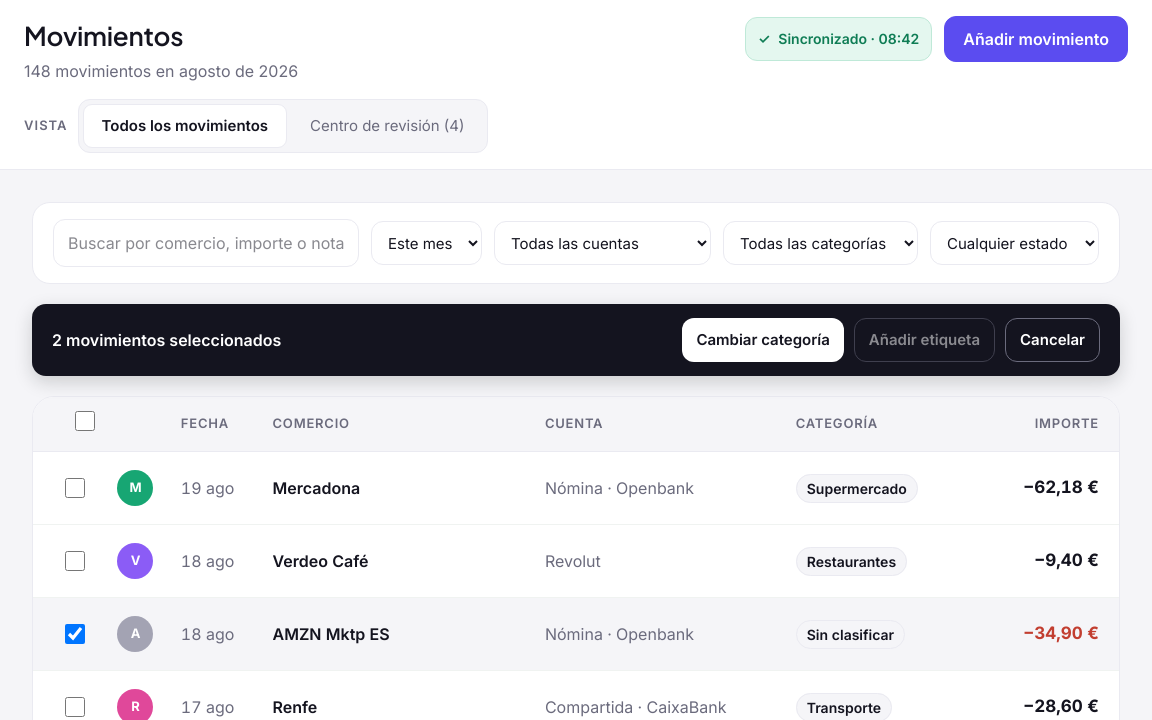
TransactionsPage › filters the table live by comercio
The width and height of the screenshot is (1152, 720).
Type "zara" into the field named "Buscar movimientos" at (206, 243), box [53, 219, 359, 267]
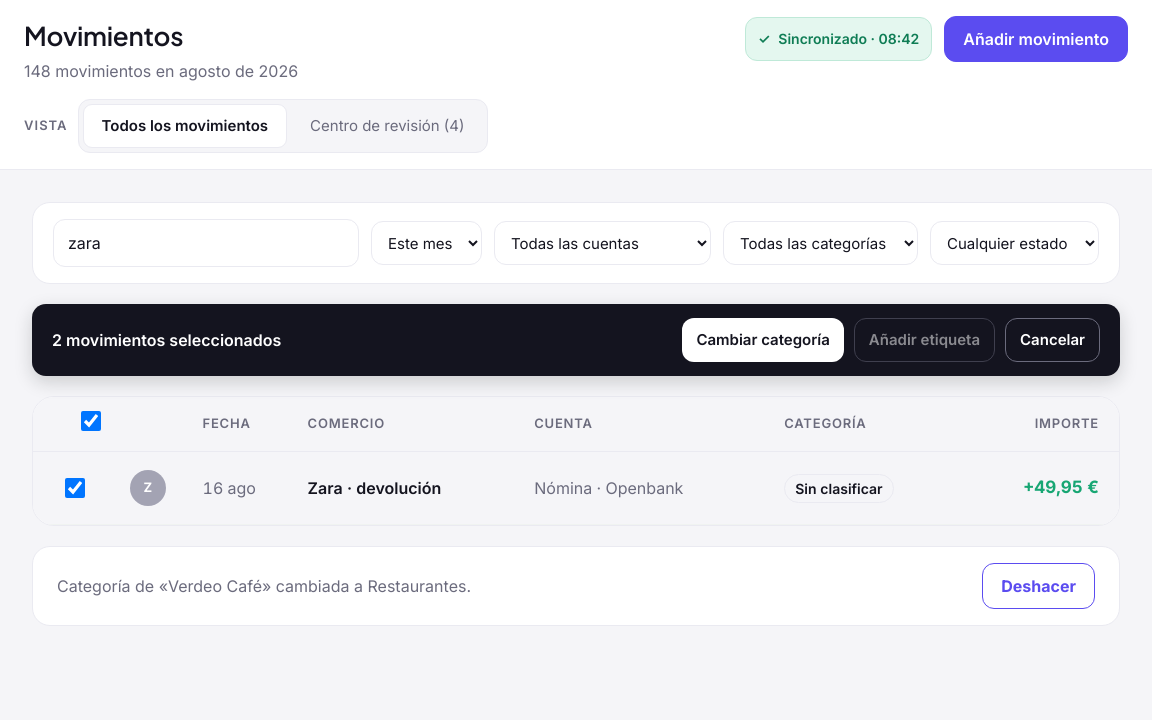
Expected: the text "Zara · devolución" is shown, [308, 478, 441, 498]
Now the button "Mercadona" is gone
